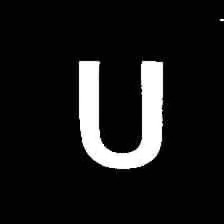LTR_U: (69, 46, 167, 174)
